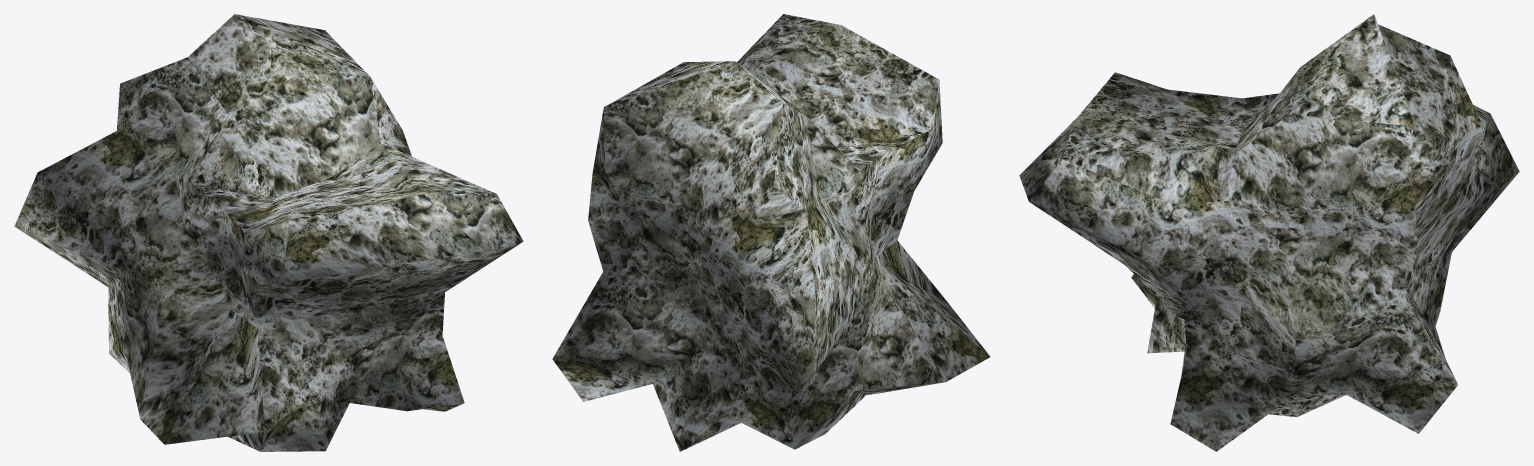
The model's file is asteroid.fbx.
3 views of the same model, side by side, from view 1: azimuth 30°, elevation 25°; view 2: azimuth 150°, elevation 25°; view 3: azimuth 270°, elevation 25° (orthographic).
Visible parts, largest first — view 1: Cube; view 2: Cube; view 3: Cube.
Part boxes in pixels (<box>): Cube: <box>14,14,523,451</box>; Cube: <box>552,14,990,451</box>; Cube: <box>1019,14,1519,451</box>.
Size of the model in its own units: 1.86 by 2.03 by 2.4.
1 material, 1 textured.
